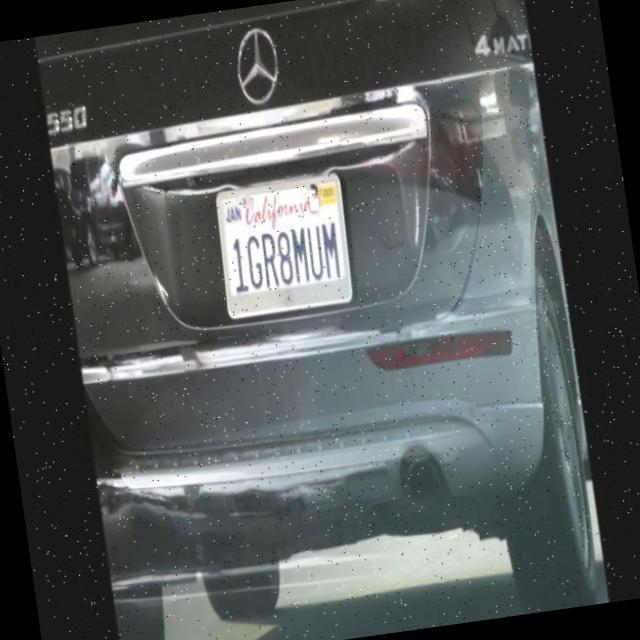License Plate: (203, 151, 363, 341)
